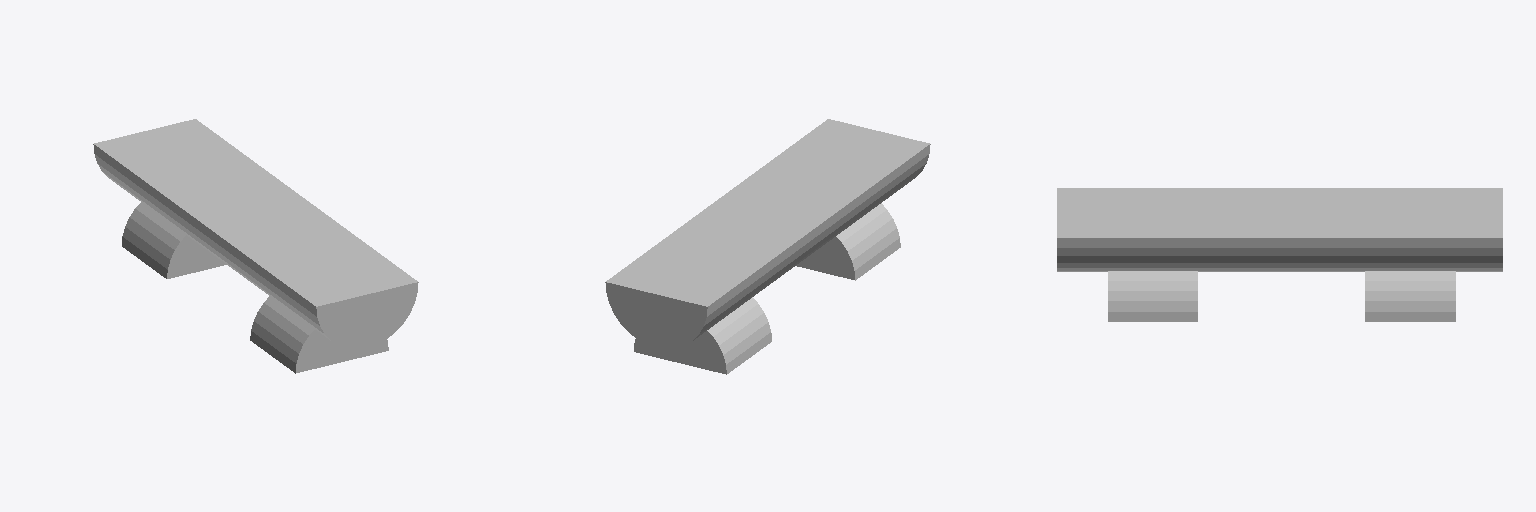
Rendered from wood_bench.obj.
3 renders of one model, left to right at view 1: azimuth 30°, elevation 25°; view 2: azimuth 150°, elevation 25°; view 3: azimuth 270°, elevation 25°, orthographic.
Visible parts, largest first — view 1: Cylinder.002, Cylinder, Cylinder.001; view 2: Cylinder.002, Cylinder.001, Cylinder; view 3: Cylinder.002, Cylinder.001, Cylinder.
Boxes of the visible parts, box(x1,y1,x2,y2) form: Cylinder.002: box(93, 119, 418, 348); Cylinder: box(250, 296, 388, 373); Cylinder.001: box(122, 202, 226, 278); Cylinder.002: box(605, 119, 930, 348); Cylinder.001: box(634, 297, 771, 374); Cylinder: box(796, 203, 900, 280); Cylinder.002: box(1057, 188, 1502, 271); Cylinder.001: box(1365, 271, 1455, 321); Cylinder: box(1108, 271, 1197, 321).
Size of the model in its own units: 1.35 by 1.09 by 5.09.